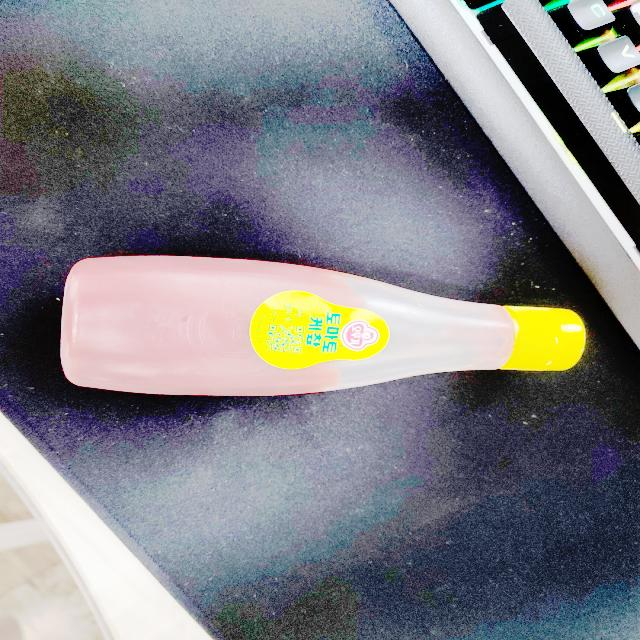ketchup: (50, 250, 588, 408)
